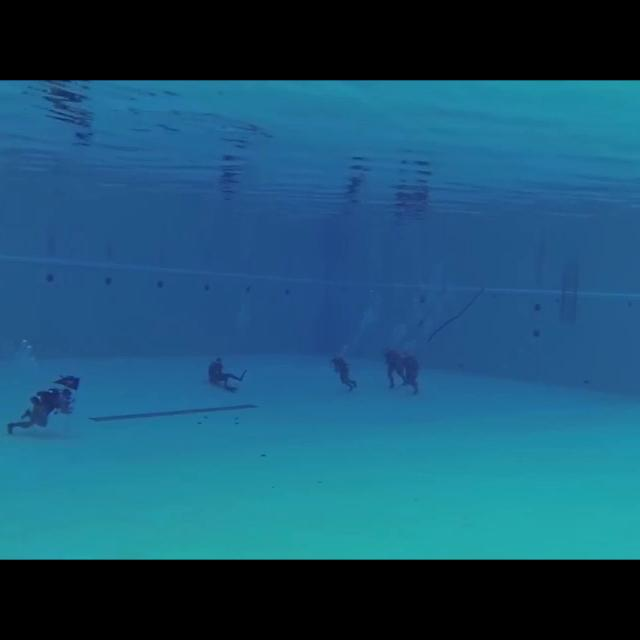human: (1, 369, 87, 442), (202, 349, 250, 395), (381, 337, 410, 397), (325, 351, 362, 394), (401, 346, 429, 401)
